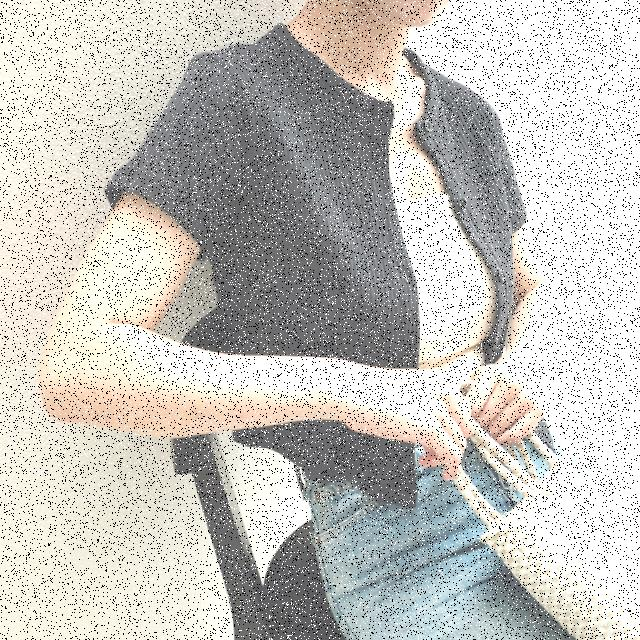Blouse_deep: (108, 21, 542, 508)
